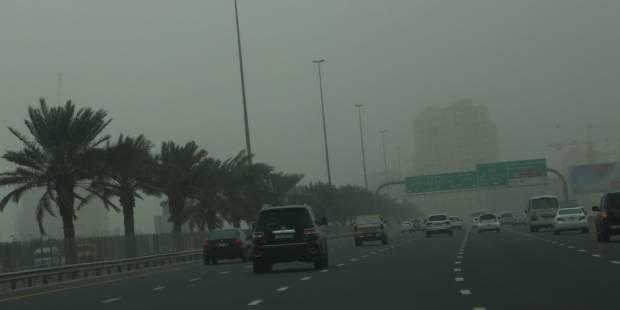bus: (524, 195, 559, 232)
car: (251, 203, 329, 272), (203, 229, 255, 265), (591, 192, 620, 241), (353, 215, 390, 246), (551, 207, 590, 235), (424, 213, 454, 238), (32, 247, 62, 268), (474, 212, 501, 234), (70, 243, 98, 262), (445, 215, 464, 231), (497, 210, 513, 227), (399, 220, 416, 233), (471, 212, 483, 228), (512, 215, 525, 226)
